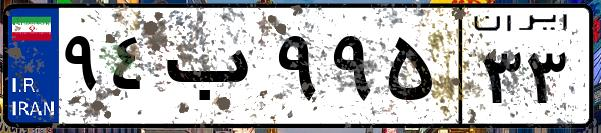3: (475, 38, 525, 113), (525, 38, 570, 115)
4: (110, 28, 158, 98)
5: (385, 28, 445, 110)
9: (270, 28, 330, 110), (330, 28, 385, 110), (57, 26, 110, 100)
ب: (158, 20, 270, 120)
